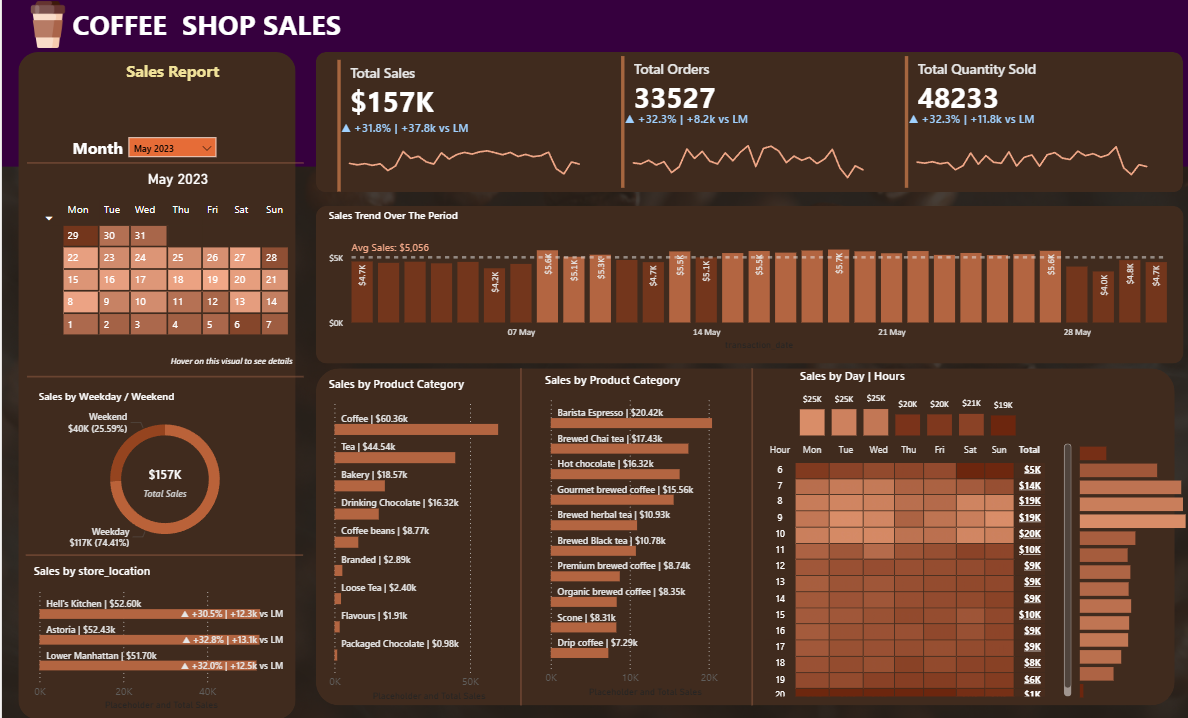

The page's visual inventory and layout, read from the dashboard file:
{"tool":"powerbi","page":{"name":"Page 1","canvas":[1400,850],"ordinal":0},"visuals":[{"type":"shape","box":[368.7,437,1010.8,396.9],"z":0},{"type":"shape","box":[0,0,1400.3,199.6],"z":1000},{"type":"shape","box":[19.1,64.7,326.5,785.5],"z":2000},{"type":"shape","box":[369.2,64.5,1020.6,165.1],"z":3000},{"type":"textbox","box":[78,5.9,336.8,69.1],"z":4000},{"type":"cardVisual","fields":{"Data":["Transactions.Total Orders"]},"box":[724.2,64.5,300.2,165.1],"z":4000,"group":"g2"},{"type":"cardVisual","fields":{"Data":["Transactions.Total Quandity Sales"]},"box":[1058.1,64.5,300.2,165.1],"z":4000,"group":"g3"},{"type":"cardVisual","fields":{"Data":["Transactions.total sales"]},"box":[390.2,69,300.2,165.1],"z":4000,"group":"g1"},{"type":"slicer","fields":{"Values":["Date Table.Month Year"]},"box":[144.1,160.3,113.3,29.4],"z":5000},{"type":"group","id":"g1","title":"Group 1","box":[390.2,69,304.7,165.1],"z":6000},{"type":"lineChart","fields":{"Category":["Date Table.Date Hierarchy.Date"],"Y":["Transactions.Total Orders"]},"box":[728.7,133.5,300.2,85.5],"z":6000,"group":"g2"},{"type":"lineChart","fields":{"Category":["Date Table.Date Hierarchy.Date"],"Y":["Transactions.Total Quandity Sales"]},"box":[1062.6,133.5,300.2,85.5],"z":6000,"group":"g3"},{"type":"lineChart","fields":{"Category":["Date Table.Date Hierarchy.Date"],"Y":["Transactions.TOTAL SALES"]},"box":[395.1,144.7,300.2,85.5],"z":6000,"group":"g1"},{"type":"group","id":"g2","title":"Group 1","box":[724.2,64.5,304.7,165.1],"z":7000},{"type":"group","id":"g3","title":"Group 1","box":[1058.1,64.5,304.7,165.1],"z":8000},{"type":"pivotTable","fields":{"Rows":["Date Table.Week Number"],"Columns":["Date Table.Day Name"],"Values":["Min(Date Table.Day Number)"]},"box":[40.5,234.1,304.7,202.6],"z":9000},{"type":"card","fields":{"Values":["Min(Date Table.Month Year)"]},"box":[141.1,195.1,132.1,39],"z":10000},{"type":"card","fields":{"Values":["Transactions.Foot Note"]},"box":[174.1,379.7,193.6,102.1],"z":11000},{"type":"shape","box":[30,430.7,325.7,31.5],"z":12000},{"type":"shape","box":[30,180.1,325.7,31.5],"z":13000},{"type":"donutChart","title":"Sales by Weekday / Weekend","fields":{"Category":["Date Table.Weekday / Weekend"],"Y":["Transactions.Total Sales"]},"box":[38.2,461.9,307.4,195.6],"z":14000},{"type":"card","fields":{"Values":["Transactions.Total Sales"]},"box":[138.3,545.7,107.4,50],"z":15000},{"type":"shape","box":[27.9,641.3,326.5,30.9],"z":16000},{"type":"clusteredBarChart","title":"Sales by store_location","fields":{"Category":["Transactions.store_location"],"Y":["Transactions.Placeholder","Transactions.Total Sales"]},"box":[32.3,666.2,313.8,178.5],"z":17000},{"type":"shape","box":[368.7,245.3,1021.2,185.8],"z":18000},{"type":"columnChart","title":"Sales Trend Over The Period","fields":{"Category":["Transactions.transaction_date"],"Y":["Transactions.Total Sales"]},"box":[379.1,248.2,1000.4,172.4],"z":19000},{"type":"clusteredBarChart","title":"Sales by Product Category","fields":{"Y":["Transactions.Placeholder","Transactions.Total Sales"],"Category":["Transactions.product_category"]},"box":[379.1,446,249.7,388],"z":20000},{"type":"shape","box":[588.7,437,44.6,396.9],"z":21000},{"type":"clusteredBarChart","title":"Sales by Product Category","fields":{"Y":["Transactions.Placeholder","Transactions.Total Sales"],"Category":["Transactions.product_type"]},"box":[633.3,441.5,249.7,388],"z":22000},{"type":"shape","box":[860.7,437,44.6,396.9],"z":23000},{"type":"pivotTable","fields":{"Rows":["Transactions.Hour"],"Columns":["Date Table.Day Name"],"Values":["Transactions.Total Sales"]},"box":[892.8,520.7,370.7,307.4],"z":24000},{"type":"barChart","fields":{"Category":["Transactions.Hour"],"Y":["Transactions.Total Sales"]},"box":[1263.5,516.3,136.8,313.3],"z":25000},{"type":"columnChart","title":"Sales by Day | Hours","fields":{"Y":["Transactions.Total Sales"],"Category":["Date Table.Day Name"]},"box":[934,436.9,264.8,85.3],"z":26000},{"type":"textbox","box":[78,160.3,79.4,35.3],"z":26001},{"type":"textbox","box":[141.2,69.1,123.6,45.6],"z":26002},{"type":"image","box":[19.1,0,69.1,64.7],"z":26003}]}

Visuals, with their boxes in screenshot pixels (x1, y1, x2, y2), scaled from the page's 1400x850 canvas onto the 1188x718 screenshot:
shape: Rect(313, 369, 1171, 704)
shape: Rect(0, 0, 1187, 169)
shape: Rect(16, 55, 293, 717)
shape: Rect(313, 54, 1179, 194)
textbox: Rect(66, 5, 352, 63)
cardVisual - Transactions.Total Orders: Rect(615, 54, 869, 194)
cardVisual - Transactions.Total Quandity Sales: Rect(898, 54, 1153, 194)
cardVisual - Transactions.total sales: Rect(331, 58, 586, 198)
slicer - Date Table.Month Year: Rect(122, 135, 218, 160)
"Group 1" group: Rect(331, 58, 590, 198)
lineChart - Date Table.Date Hierarchy.Date x Transactions.Total Orders: Rect(618, 113, 873, 185)
lineChart - Date Table.Date Hierarchy.Date x Transactions.Total Quandity Sales: Rect(902, 113, 1156, 185)
lineChart - Date Table.Date Hierarchy.Date x Transactions.TOTAL SALES: Rect(335, 122, 590, 194)
"Group 1" group: Rect(615, 54, 873, 194)
"Group 1" group: Rect(898, 54, 1156, 194)
pivotTable - Date Table.Week Number x Date Table.Day Name: Rect(34, 198, 293, 369)
card - Min(Date Table.Month Year): Rect(120, 165, 232, 198)
card - Transactions.Foot Note: Rect(148, 321, 312, 407)
shape: Rect(25, 364, 302, 390)
shape: Rect(25, 152, 302, 179)
"Sales by Weekday / Weekend" donutChart: Rect(32, 390, 293, 555)
card - Transactions.Total Sales: Rect(117, 461, 208, 503)
shape: Rect(24, 542, 301, 568)
"Sales by store_location" clusteredBarChart: Rect(27, 563, 294, 714)
shape: Rect(313, 207, 1179, 364)
"Sales Trend Over The Period" columnChart: Rect(322, 210, 1171, 355)
"Sales by Product Category" clusteredBarChart: Rect(322, 377, 534, 704)
shape: Rect(500, 369, 537, 704)
"Sales by Product Category" clusteredBarChart: Rect(537, 373, 749, 701)
shape: Rect(730, 369, 768, 704)
pivotTable - Transactions.Hour x Date Table.Day Name: Rect(758, 440, 1072, 700)
barChart - Transactions.Hour x Transactions.Total Sales: Rect(1072, 436, 1187, 701)
"Sales by Day | Hours" columnChart: Rect(793, 369, 1017, 441)
textbox: Rect(66, 135, 134, 165)
textbox: Rect(120, 58, 225, 97)
image: Rect(16, 0, 75, 55)
